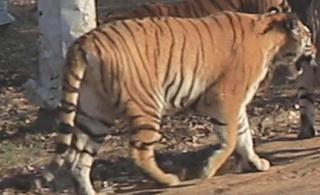tiger: (60, 0, 315, 194)
